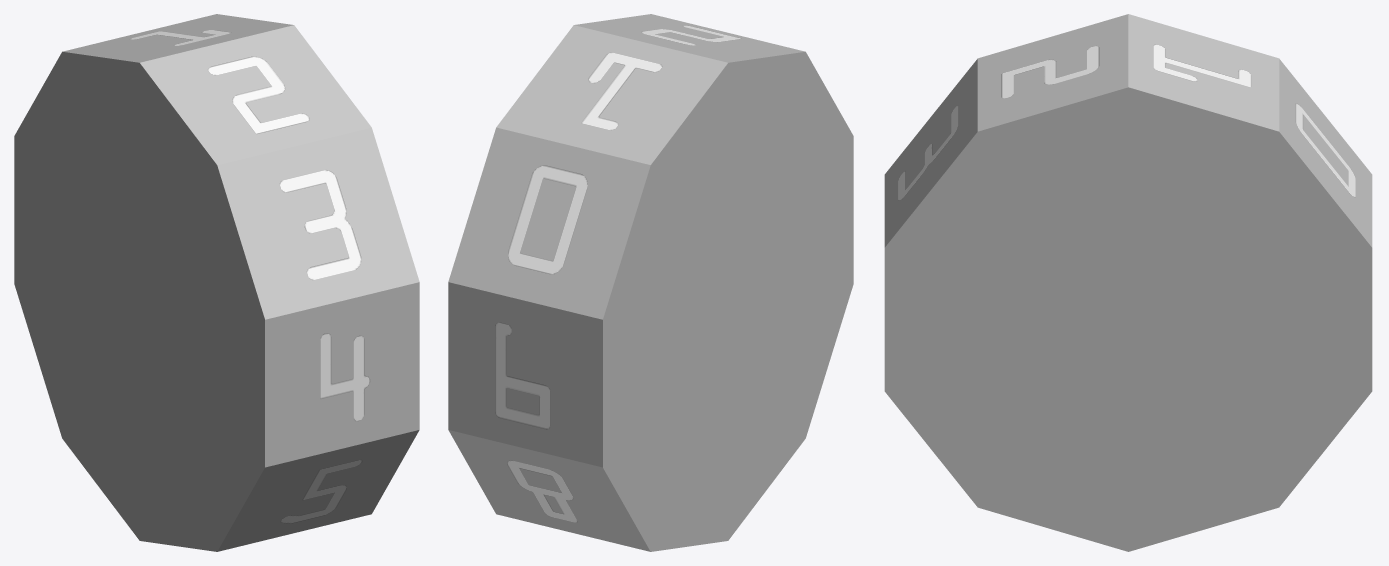
Rendered from shuzipan.FBX.
The picture shows the model from 3 angles, left to right: view 1: azimuth 30°, elevation 25°; view 2: azimuth 150°, elevation 25°; view 3: azimuth 270°, elevation 25°; orthographic projection. The views are drawn at different scales.
Parts seen in each view (by area): view 1: Cylinder001; view 2: Cylinder001; view 3: Cylinder001.
Part boxes in pixels (x1,y1,x2,y2): Cylinder001: (14, 14, 419, 551); Cylinder001: (448, 14, 853, 551); Cylinder001: (884, 14, 1372, 551).
Size of the model in its own units: 9.39 by 28 by 26.63.
